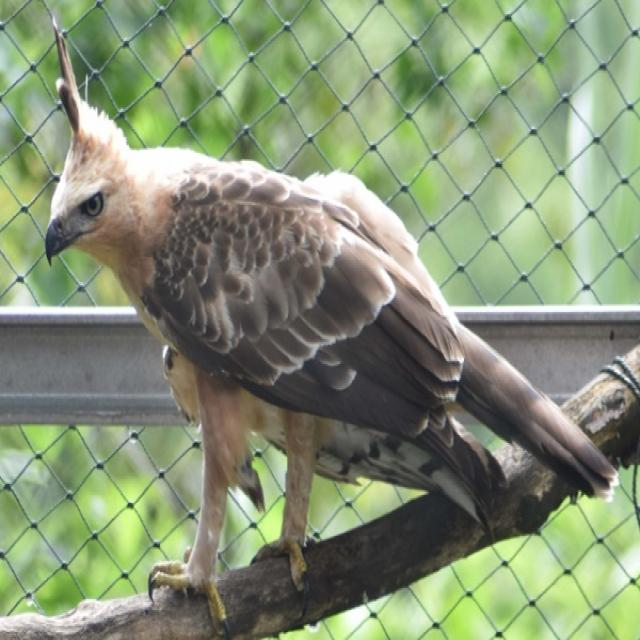Elang Jawa: (26, 6, 627, 640)
